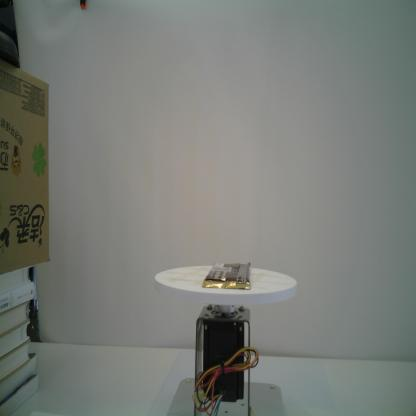Chocolate: (202, 260, 252, 290)
